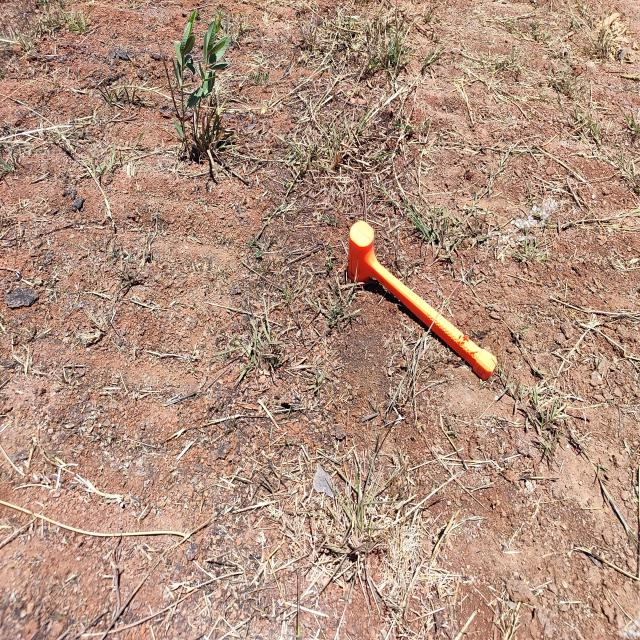Orange_hammer: (346, 219, 498, 382)
